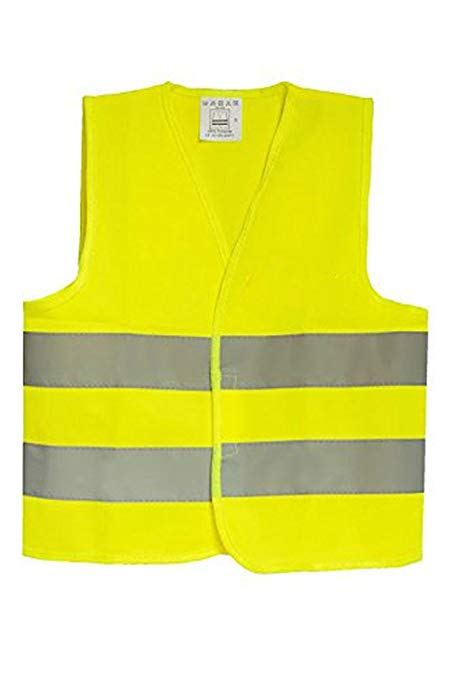safety vest: (24, 85, 426, 564)
